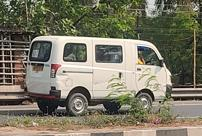Auto: (26, 34, 174, 117)
